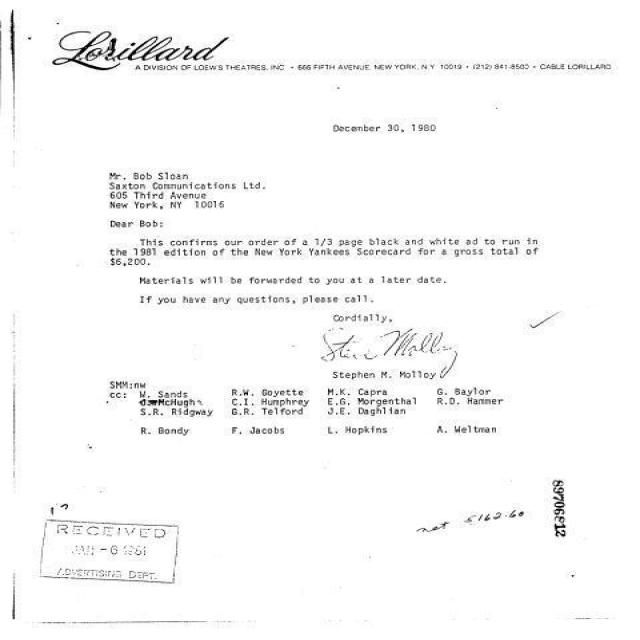signature: (323, 326, 460, 380)
